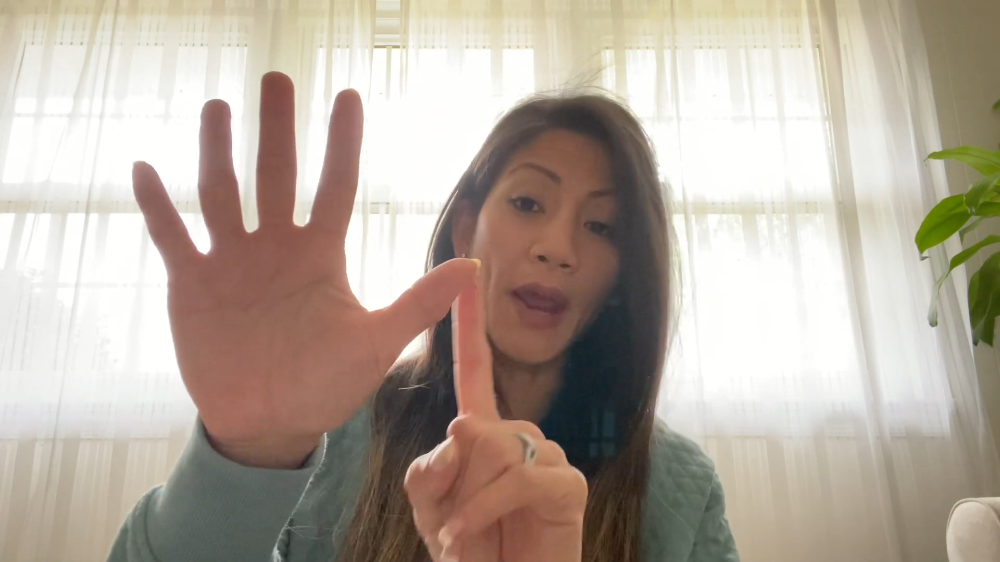hello: (127, 71, 475, 442)
